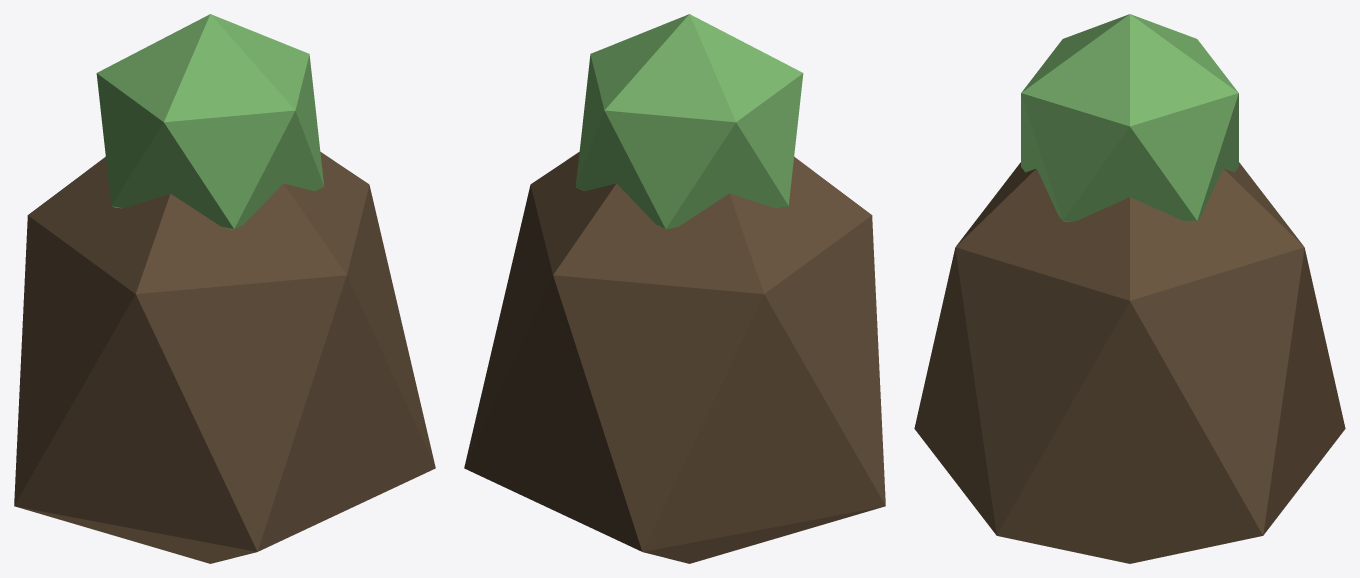
Rendered from childpumpkin0.fbx.
3 renders of one model, left to right at view 1: azimuth 30°, elevation 25°; view 2: azimuth 150°, elevation 25°; view 3: azimuth 270°, elevation 25°, orthographic.
Parts seen in each view (by area): view 1: childPumpkin0; view 2: childPumpkin0; view 3: childPumpkin0.
Part boxes in pixels (x1=…): childPumpkin0: x1=14, y1=14, x2=435, y2=563; childPumpkin0: x1=464, y1=14, x2=885, y2=563; childPumpkin0: x1=914, y1=14, x2=1345, y2=563.
Size of the model in its own units: 29.77 by 41.91 by 28.33.
